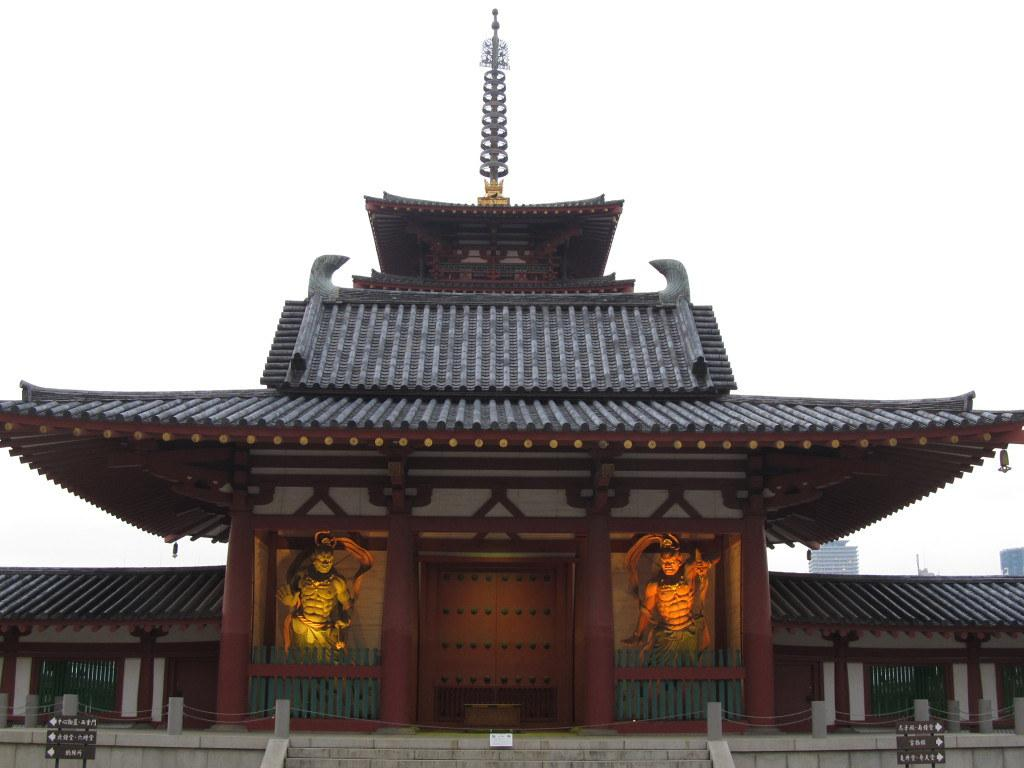temple: (2, 7, 1023, 752)
